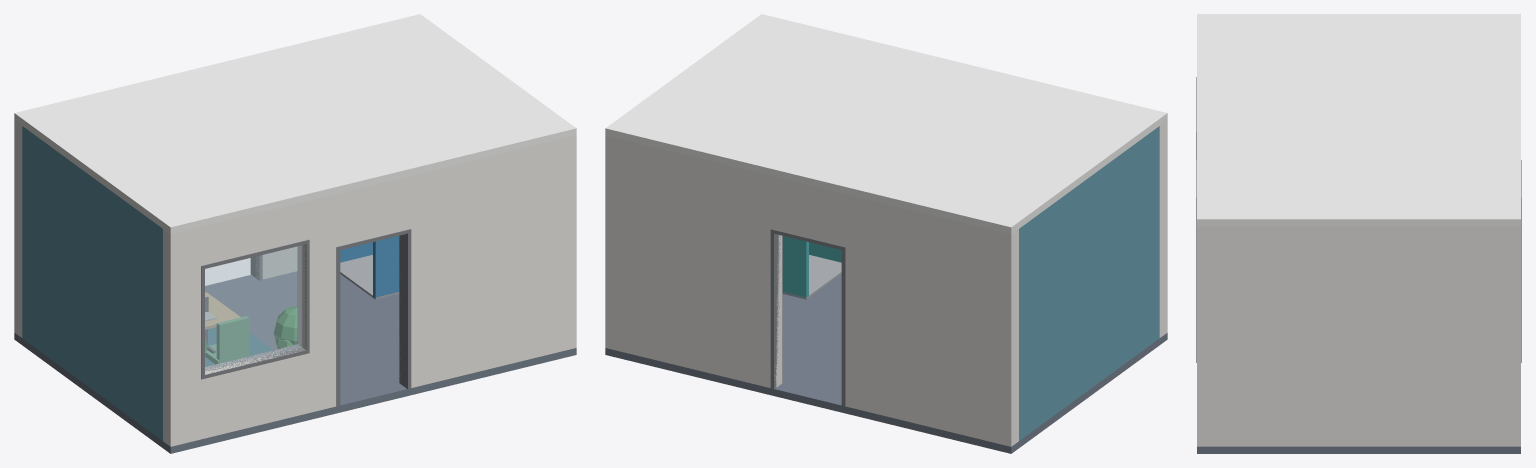
3 renders of one model, left to right at view 1: azimuth 30°, elevation 25°; view 2: azimuth 150°, elevation 25°; view 3: azimuth 270°, elevation 25°, orthographic. The views are drawn at different scales.
Visible parts, largest first — view 1: Ceiling, Wall_S, Wall_W, Frames_S, Floor, PhoneBooth_02, Wall_N, Chair_02, Plant_2, HuddleTable; view 2: Wall_N, Ceiling, Wall_W, Floor, PhoneBooth_01, Frames_N, Wall_S; view 3: Ceiling, Wall_E, Wall_N, Wall_S, Floor.
Boxes of the visible parts, x1=… form: Ceiling: x1=14, y1=14, x2=576, y2=234; Wall_S: x1=163, y1=135, x2=576, y2=446; Wall_W: x1=22, y1=126, x2=162, y2=440; Frames_S: x1=201, y1=229, x2=411, y2=406; Floor: x1=14, y1=271, x2=576, y2=453; PhoneBooth_02: x1=340, y1=236, x2=399, y2=299; Wall_N: x1=14, y1=120, x2=297, y2=337; Chair_02: x1=205, y1=316, x2=249, y2=363; Plant_2: x1=273, y1=306, x2=297, y2=348; HuddleTable: x1=205, y1=292, x2=240, y2=344; Wall_N: x1=605, y1=135, x2=1018, y2=446; Ceiling: x1=605, y1=14, x2=1167, y2=234; Wall_W: x1=1019, y1=126, x2=1159, y2=440; Floor: x1=605, y1=274, x2=1167, y2=453; PhoneBooth_01: x1=782, y1=236, x2=841, y2=299; Frames_N: x1=770, y1=229, x2=845, y2=406; Wall_S: x1=1159, y1=120, x2=1167, y2=337; Ceiling: x1=1197, y1=14, x2=1520, y2=226; Wall_E: x1=1213, y1=226, x2=1504, y2=446; Wall_N: x1=1504, y1=226, x2=1520, y2=446; Wall_S: x1=1197, y1=226, x2=1213, y2=446; Floor: x1=1197, y1=446, x2=1520, y2=453.
Size of the model in its own units: 6 by 3.2 by 4.02.
